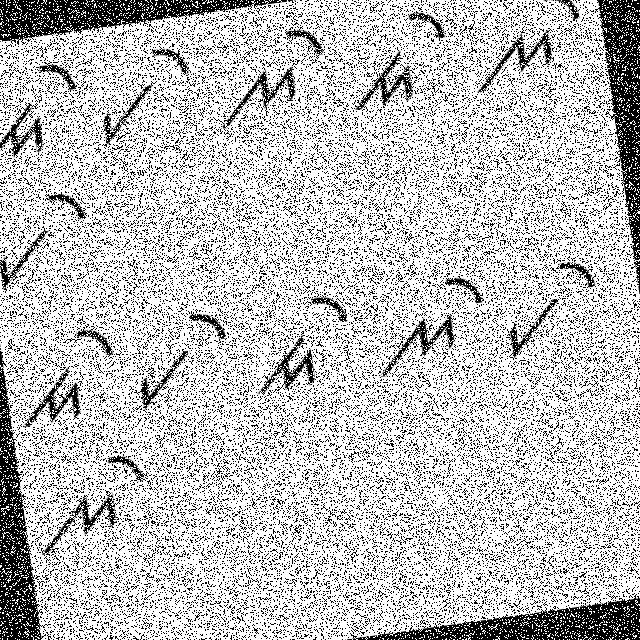day: (244, 278, 364, 404), (8, 309, 126, 436), (344, 1, 458, 118), (0, 58, 89, 170)
nay: (364, 261, 496, 391), (28, 440, 158, 560), (208, 15, 336, 134), (465, 0, 592, 100)
pay: (121, 296, 242, 419), (492, 244, 612, 367), (85, 38, 198, 148), (0, 181, 101, 294)
